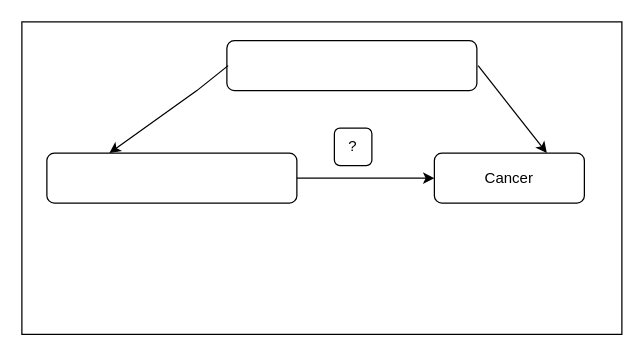
Some shapes in this 644 by 356 pixel diagram are drawn without their labels. The centre of each missing label's shape, as x and y in pixels:
"Home proximity to power lines" belongs at pixel 171 177.
"Income" belongs at pixel 351 65.
